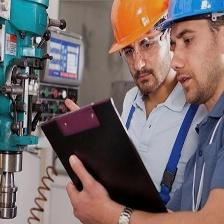Person: (101, 1, 174, 224), (159, 1, 224, 224)
helmet: (103, 1, 170, 56), (154, 1, 224, 34)
